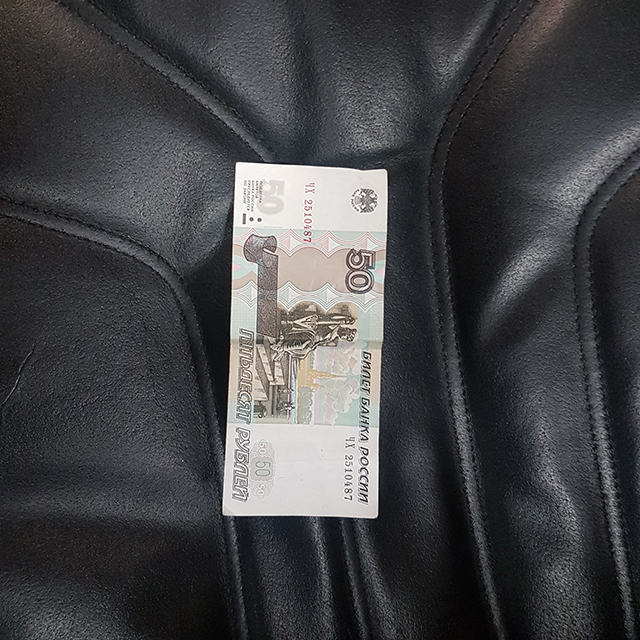banknotes: (222, 161, 387, 520)
